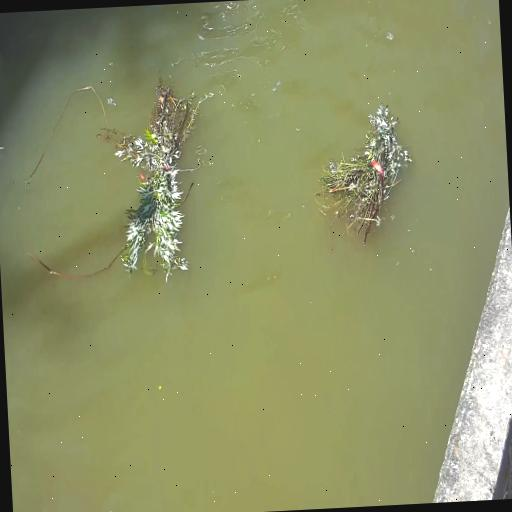twig: (104, 69, 216, 285), (316, 102, 415, 252)
